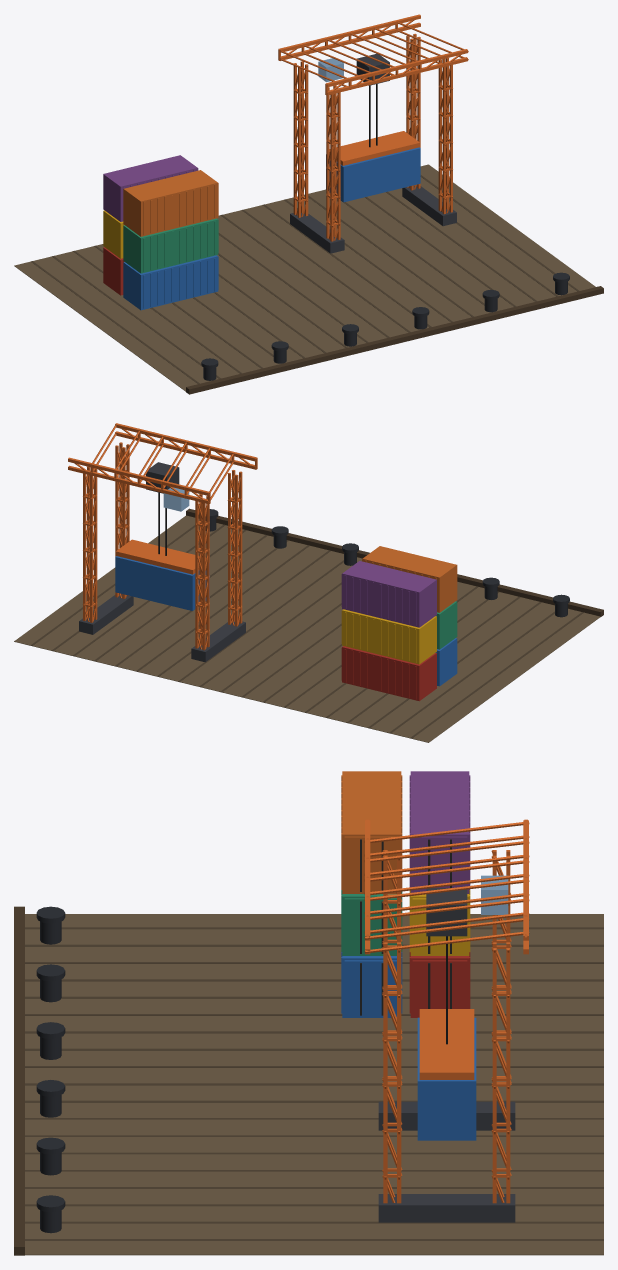
The model's file is docks.glb.
The picture shows the model from 3 angles, top to bottom: view 1: azimuth 30°, elevation 25°; view 2: azimuth 150°, elevation 25°; view 3: azimuth 270°, elevation 25°; orthographic projection. The views are drawn at different scales.
Visible parts, largest first — view 1: part-wharf, part-gantry, part-plank-gap, part-container-1, part-container-5, part-kerb, part-container-3, part-container-4, part-bogie, part-bollard, part-container-0, part-container-2 (+1 smaller); view 2: part-wharf, part-gantry, part-plank-gap, part-container-4, part-container-1, part-container-0, part-container-2, part-container-5, part-bogie, part-kerb, part-bollard, part-container-3 (+1 smaller); view 3: part-wharf, part-plank-gap, part-gantry, part-container-1, part-container-5, part-container-4, part-bogie, part-bollard, part-kerb, part-container-0, part-container-3, part-container-2 (+3 smaller).
Boxes of the visible parts, bbox=[...] form: part-wharf: bbox=[14, 164, 595, 391]; part-gantry: bbox=[278, 14, 468, 241]; part-plank-gap: bbox=[31, 175, 578, 383]; part-container-1: bbox=[123, 147, 420, 310]; part-container-5: bbox=[123, 170, 218, 236]; part-kerb: bbox=[186, 286, 603, 394]; part-container-3: bbox=[123, 218, 218, 273]; part-container-4: bbox=[103, 155, 198, 221]; part-bogie: bbox=[290, 185, 456, 253]; part-bollard: bbox=[201, 272, 569, 380]; part-container-0: bbox=[103, 247, 124, 295]; part-container-2: bbox=[103, 210, 124, 258]; part-wharf: bbox=[14, 515, 600, 742]; part-gantry: bbox=[68, 423, 257, 650]; part-plank-gap: bbox=[30, 524, 583, 738]; part-container-4: bbox=[341, 561, 436, 627]; part-container-1: bbox=[115, 556, 457, 686]; part-container-0: bbox=[341, 646, 436, 701]; part-container-2: bbox=[341, 609, 436, 664]; part-container-5: bbox=[362, 546, 457, 612]; part-bogie: bbox=[79, 594, 245, 662]; part-kerb: bbox=[186, 508, 603, 616]; part-bollard: bbox=[205, 509, 569, 617]; part-container-3: bbox=[436, 601, 457, 649]; part-wharf: bbox=[25, 914, 603, 1255]; part-plank-gap: bbox=[25, 927, 603, 1240]; part-gantry: bbox=[364, 819, 529, 1203]; part-container-1: bbox=[341, 952, 476, 1140]; part-container-5: bbox=[341, 771, 402, 893]; part-container-4: bbox=[409, 771, 470, 893]; part-bogie: bbox=[378, 1101, 515, 1222]; part-bollard: bbox=[36, 906, 65, 1233]; part-kerb: bbox=[14, 906, 24, 1255]; part-container-0: bbox=[409, 952, 470, 1017]; part-container-3: bbox=[341, 890, 402, 955]; part-container-2: bbox=[409, 890, 470, 955].
Bounding box in the file's own units: 118 × 47.93 × 86.4.
